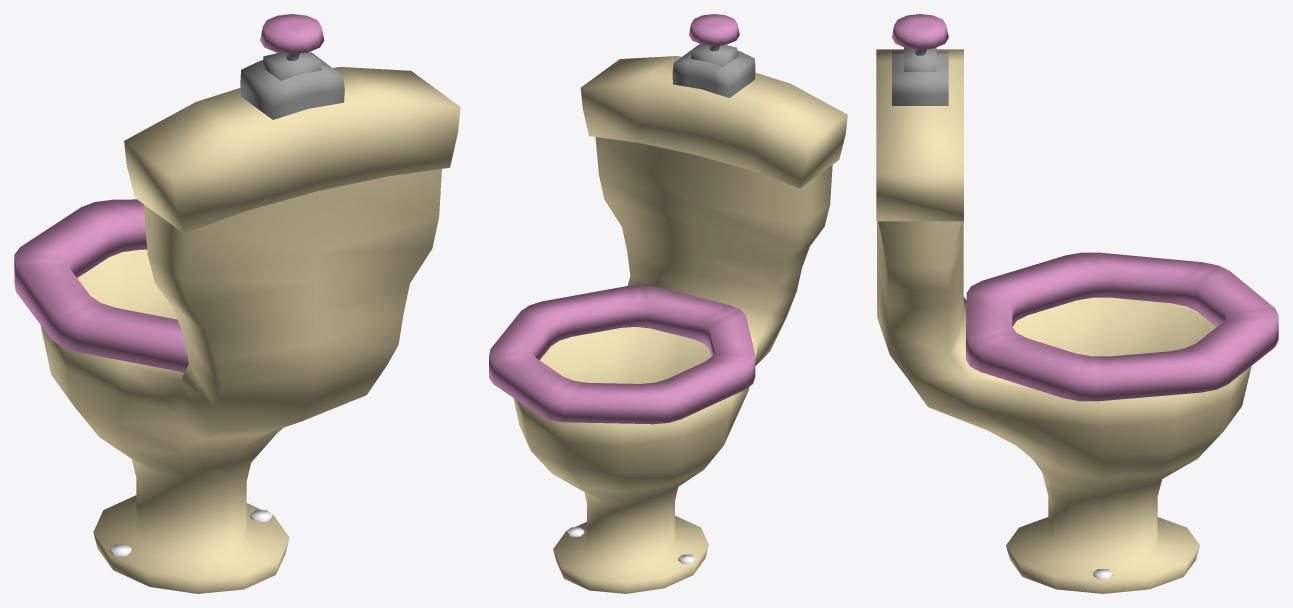
Rendered from props_toilet.fbx.
3 views of the same model, side by side, from view 1: azimuth 30°, elevation 25°; view 2: azimuth 150°, elevation 25°; view 3: azimuth 270°, elevation 25° (orthographic). The views are drawn at different scales.
Parts seen in each view (by area): view 1: toilet; view 2: toilet; view 3: toilet.
Boxes of the visible parts, bbox=[...] form: toilet: bbox=[14, 14, 460, 593]; toilet: bbox=[489, 14, 847, 593]; toilet: bbox=[876, 14, 1278, 593].
Size of the model in its own units: 0.9944 by 1.35 by 1.99.
